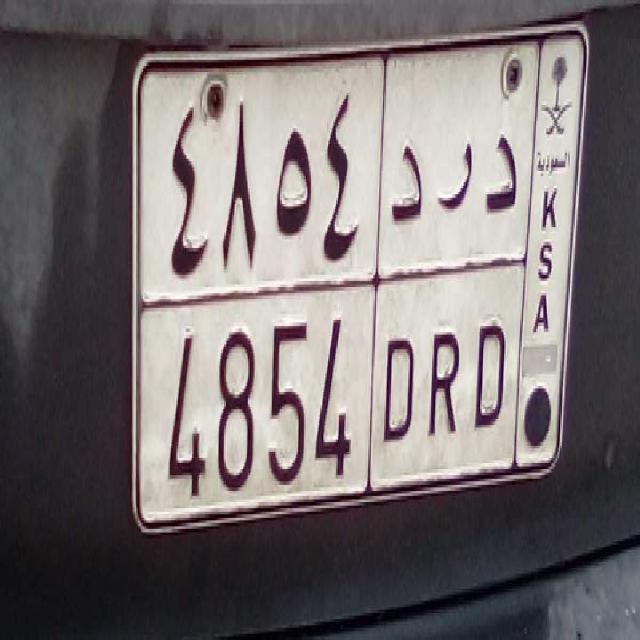license_plate: (145, 291, 518, 529)
